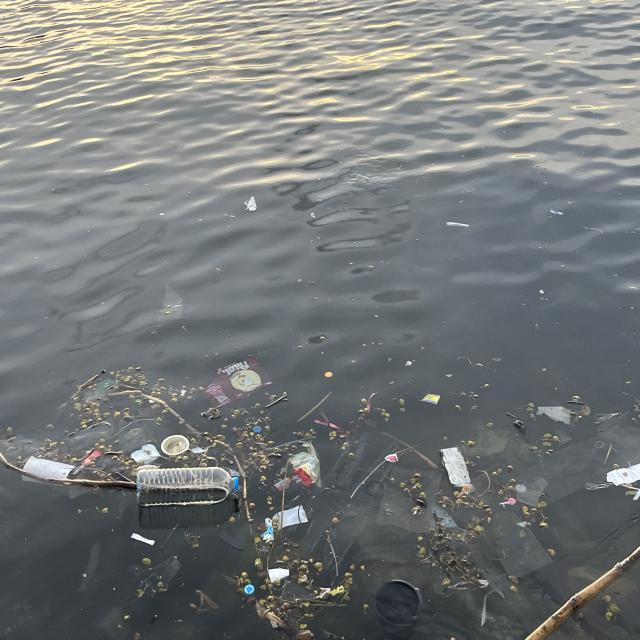plastic: (136, 469, 237, 506)
plastic bottle: (298, 438, 402, 563), (518, 423, 640, 508), (481, 513, 553, 579), (376, 469, 442, 536), (198, 354, 271, 414), (119, 407, 163, 455), (288, 442, 324, 488), (458, 423, 509, 454), (19, 456, 72, 485), (1, 434, 43, 468), (76, 542, 103, 594), (149, 554, 182, 590), (156, 286, 183, 326), (272, 505, 309, 532), (431, 504, 464, 534), (605, 461, 640, 486), (71, 448, 100, 478), (160, 435, 191, 457), (537, 406, 571, 426), (132, 443, 161, 465), (480, 588, 493, 627), (262, 518, 274, 544), (130, 534, 156, 546), (268, 568, 290, 582), (273, 476, 292, 491), (419, 394, 441, 404), (499, 498, 517, 507), (446, 222, 469, 228), (248, 196, 256, 210), (516, 485, 528, 493), (632, 490, 640, 501)
unknow: (374, 579, 422, 640), (316, 389, 377, 435), (441, 448, 472, 486), (433, 579, 490, 597), (85, 380, 116, 400), (221, 530, 243, 552)
